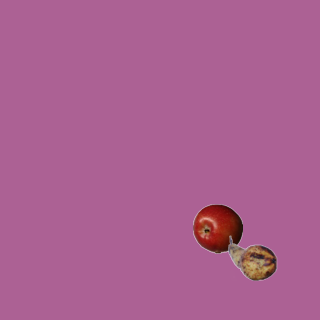Apple Braeburn: (192, 203, 242, 253)
Pear Abate: (227, 233, 277, 283)
